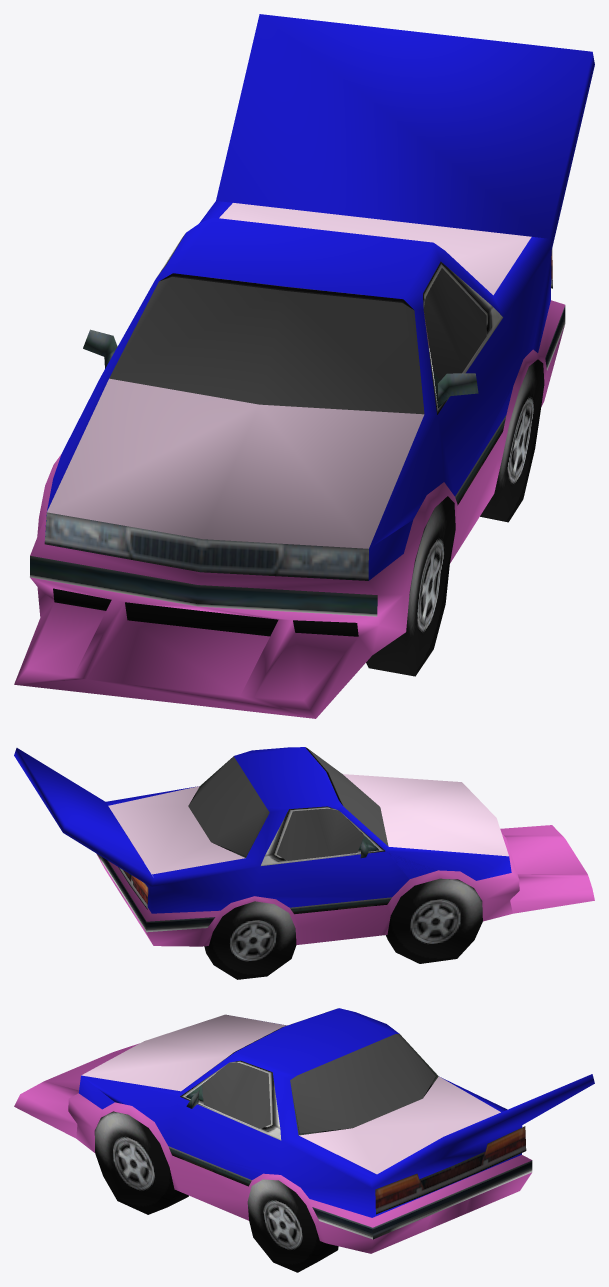
Rendered from icon0.ico.obj.
The picture shows the model from 3 angles, top to bottom: view 1: azimuth 30°, elevation 25°; view 2: azimuth 150°, elevation 25°; view 3: azimuth 270°, elevation 25°; orthographic projection. The views are drawn at different scales.
Size of the model in its own units: 4.12 by 1.54 by 4.12.
1 material, 1 textured.
